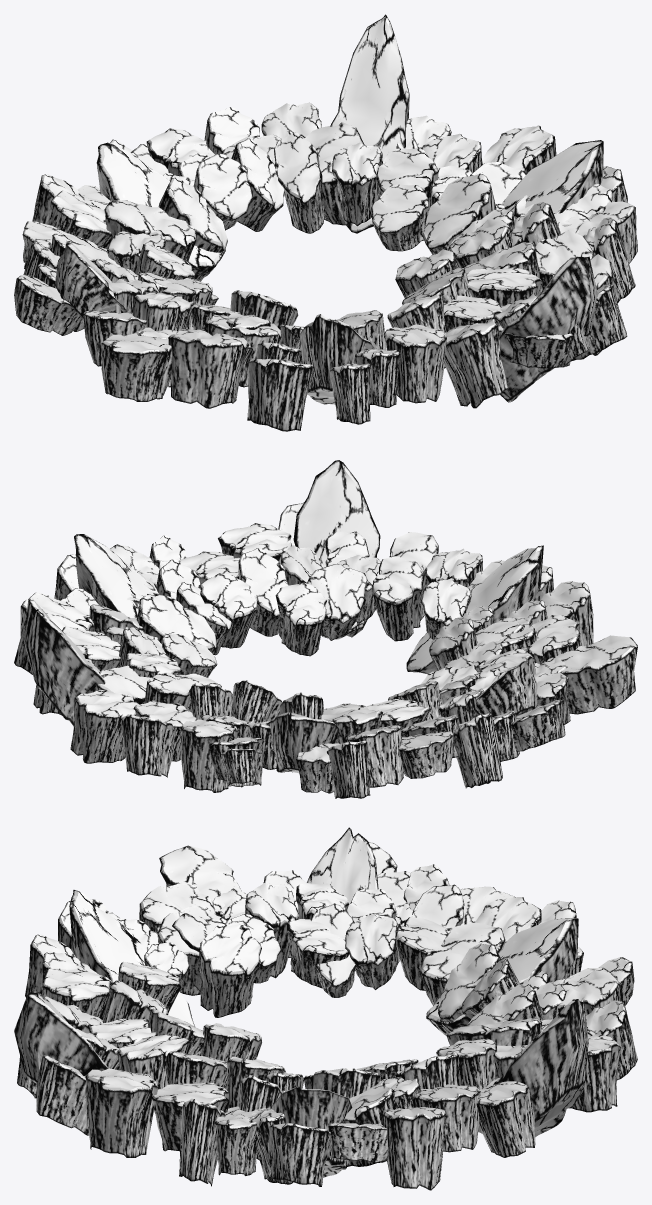
Rendered from Akaza_Stone1.fbx.
3 renders of one model, top to bottom at view 1: azimuth 30°, elevation 25°; view 2: azimuth 150°, elevation 25°; view 3: azimuth 270°, elevation 25°, orthographic. The views are drawn at different scales.
Parts seen in each view (by area): view 1: SM_e_Plc_P1012_Stone001; view 2: SM_e_Plc_P1012_Stone001; view 3: SM_e_Plc_P1012_Stone001.
Part boxes in pixels (left/top/right/bottom): SM_e_Plc_P1012_Stone001: left=14, top=14, right=637, bottom=431; SM_e_Plc_P1012_Stone001: left=14, top=460, right=637, bottom=798; SM_e_Plc_P1012_Stone001: left=14, top=827, right=637, bottom=1190.
Bounding box in the file's own units: 206 × 63.84 × 187.
